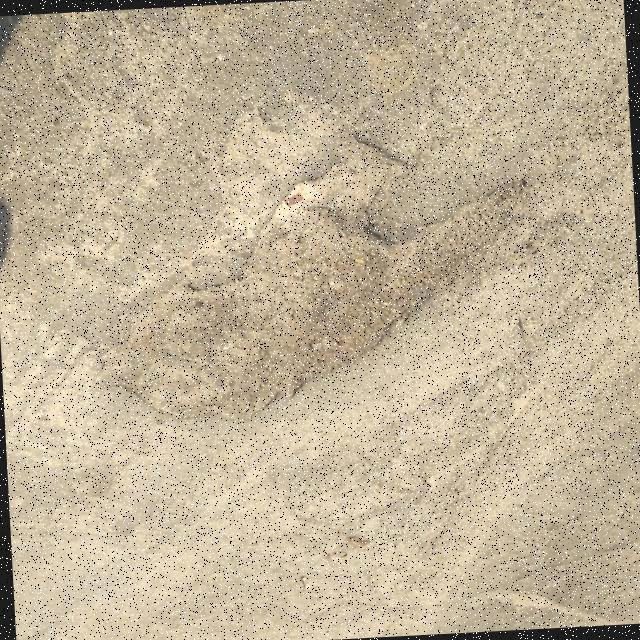Pothole: (96, 129, 532, 421)
